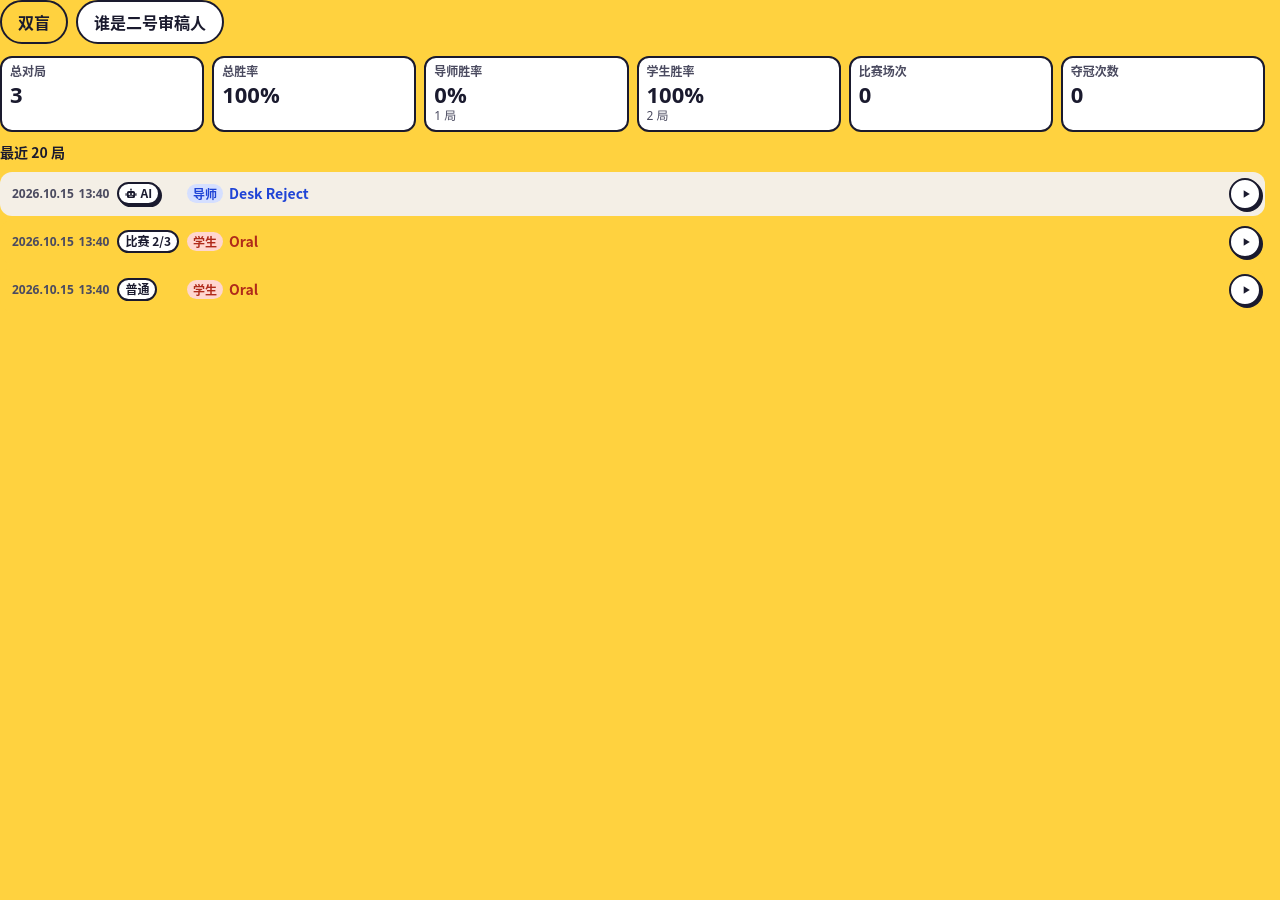
ProfileRecords › says the same in Chinese
Click the button with class "tag" showing "AI" at (139, 194), box [118,182,160,205]
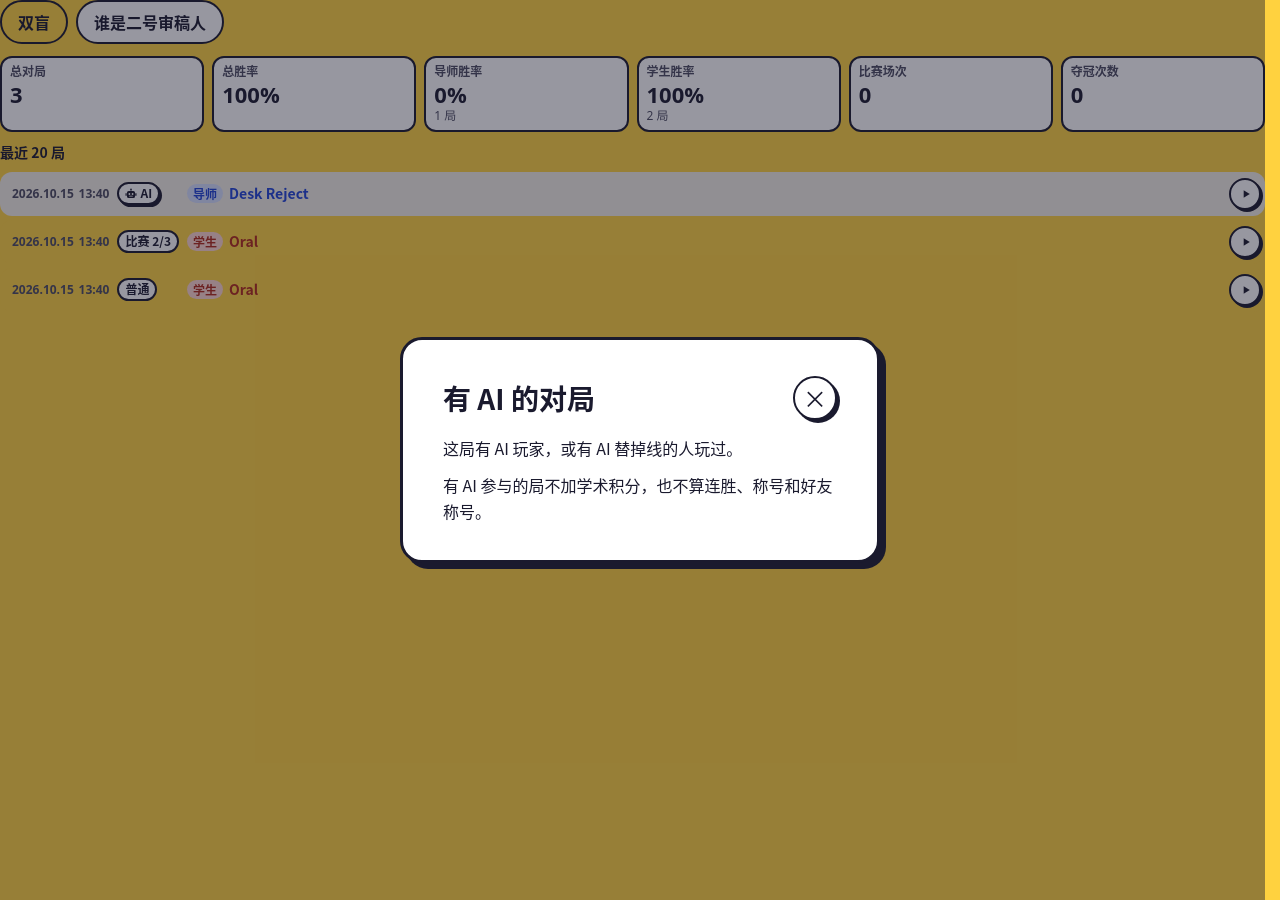
Expected: the heading "有 AI 的对局" is shown, [443,378,595,418]
Expected: the dialog shows "这局有 AI 玩家，或有 AI 替掉线的人玩过。", [443,436,742,460]
Expected: the dialog shows "有 AI 参与的局不加学术积分，也不算连胜、称号和好友称号。", [443,473,833,523]
